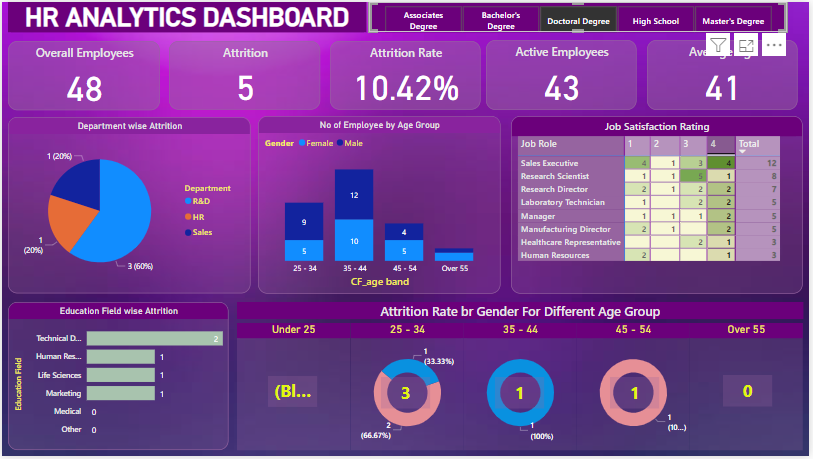

What the dashboard file says about the page in this screenshot:
{"tool":"powerbi","page":{"name":"Page 1","canvas":[1280,720],"ordinal":0},"visuals":[{"type":"card","title":"Overall Employees","fields":{"Values":["Sum(HR data.Employee Count)"]},"box":[9.6,62.5,241.3,109.6],"z":0},{"type":"card","title":"Attrition","fields":{"Values":["Sum(HR data.Attrition Count)"]},"box":[265.4,62.5,240.4,108.7],"z":1000},{"type":"card","title":"Attrition Rate","fields":{"Values":["HR data.Attrition Rate"]},"box":[520.2,62.5,239.4,108.7],"z":2000},{"type":"card","title":"Active Employees","fields":{"Values":["HR data.Active Employees"]},"box":[768.3,60.6,239.4,110.6],"z":3000},{"type":"card","title":"Average Age","fields":{"Values":["Avg(HR data.Age)"]},"box":[1023.1,60.6,239.4,110.6],"z":4000},{"type":"pieChart","title":"Department wise Attrition","fields":{"Category":["HR data.Department"],"Y":["Sum(HR data.Attrition Count)"]},"box":[9.8,182,385.2,280.3],"z":5000},{"type":"columnChart","title":"No of Employee by Age Group","fields":{"Category":["HR data.CF_age band"],"Y":["Sum(HR data.Employee Count)"],"Series":["HR data.Gender"]},"box":[405.8,181.7,384.6,281.7],"z":6000},{"type":"pivotTable","title":"Job Satisfaction Rating","fields":{"Rows":["HR data.Job Role"],"Columns":["HR data.Job Satisfaction"],"Values":["Sum(HR data.Employee Count)"]},"box":[807.7,180.8,462.5,281.7],"z":7000},{"type":"barChart","title":"Education Field wise Attrition","fields":{"Category":["HR data.Education Field"],"Y":["Sum(HR data.Attrition Count)"]},"box":[9.6,476.6,350,235.1],"z":8000},{"type":"textbox","title":"Attrition Rate br Gender For Different Age Group","box":[372.3,476.6,898.9,26.6],"z":9000},{"type":"donutChart","title":"Under 25","fields":{"Category":["HR data.Gender"],"Y":["Sum(HR data.Attrition Count)"],"Series":["HR data.CF_age band"]},"box":[372.3,509.6,179.8,202.1],"z":10000},{"type":"donutChart","title":"25 - 34","fields":{"Category":["HR data.Gender"],"Y":["Sum(HR data.Attrition Count)"],"Series":["HR data.CF_age band"]},"box":[553.2,509.6,178.7,202.1],"z":11000},{"type":"donutChart","title":"35 - 44","fields":{"Category":["HR data.Gender"],"Y":["Sum(HR data.Attrition Count)"],"Series":["HR data.CF_age band"]},"box":[733,509.6,178.7,202.1],"z":12000},{"type":"donutChart","title":"45 - 54","fields":{"Category":["HR data.Gender"],"Y":["Sum(HR data.Attrition Count)"],"Series":["HR data.CF_age band"]},"box":[912.8,509.6,178.7,202.1],"z":13000},{"type":"donutChart","title":"Over 55","fields":{"Category":["HR data.Gender"],"Y":["Sum(HR data.Attrition Count)"],"Series":["HR data.CF_age band"]},"box":[1092.6,509.6,178.7,202.1],"z":14000},{"type":"card","fields":{"Values":["Sum(HR data.Attrition Count)"]},"box":[422.2,593.8,77.8,49.4],"z":15000},{"type":"card","fields":{"Values":["Sum(HR data.Attrition Count)"]},"box":[601.9,594.4,77.8,50],"z":16000},{"type":"card","fields":{"Values":["Sum(HR data.Attrition Count)"]},"box":[783.3,594.4,77.8,50],"z":17000},{"type":"card","fields":{"Values":["Sum(HR data.Attrition Count)"]},"box":[964.8,594.4,77.8,50],"z":18000},{"type":"card","fields":{"Values":["Sum(HR data.Attrition Count)"]},"box":[1144.4,592.6,77.8,50],"z":19000},{"type":"textbox","title":"HR ANALYTICS DASHBOARD","box":[9.3,0,568.5,48.1],"z":20000},{"type":"slicer","fields":{"Values":["HR data.Education"]},"box":[583.3,0,663,48.1],"z":21000}]}

Visuals, with their boxes in screenshot pixels (x1, y1, x2, y2), scaled from the page's 1280x720 canvas onto the 813x459 screenshot:
"Overall Employees" card: bbox=[6, 40, 159, 110]
"Attrition" card: bbox=[169, 40, 321, 109]
"Attrition Rate" card: bbox=[330, 40, 482, 109]
"Active Employees" card: bbox=[488, 39, 640, 109]
"Average Age" card: bbox=[650, 39, 802, 109]
"Department wise Attrition" pieChart: bbox=[6, 116, 251, 295]
"No of Employee by Age Group" columnChart: bbox=[258, 116, 502, 295]
"Job Satisfaction Rating" pivotTable: bbox=[513, 115, 807, 295]
"Education Field wise Attrition" barChart: bbox=[6, 304, 228, 454]
"Attrition Rate br Gender For Different Age Group" textbox: bbox=[236, 304, 807, 321]
"Under 25" donutChart: bbox=[236, 325, 351, 454]
"25 - 34" donutChart: bbox=[351, 325, 465, 454]
"35 - 44" donutChart: bbox=[466, 325, 579, 454]
"45 - 54" donutChart: bbox=[580, 325, 693, 454]
"Over 55" donutChart: bbox=[694, 325, 807, 454]
card - Sum(HR data.Attrition Count): bbox=[268, 379, 318, 410]
card - Sum(HR data.Attrition Count): bbox=[382, 379, 432, 411]
card - Sum(HR data.Attrition Count): bbox=[498, 379, 547, 411]
card - Sum(HR data.Attrition Count): bbox=[613, 379, 662, 411]
card - Sum(HR data.Attrition Count): bbox=[727, 378, 776, 410]
"HR ANALYTICS DASHBOARD" textbox: bbox=[6, 0, 367, 31]
slicer - HR data.Education: bbox=[370, 0, 792, 31]
